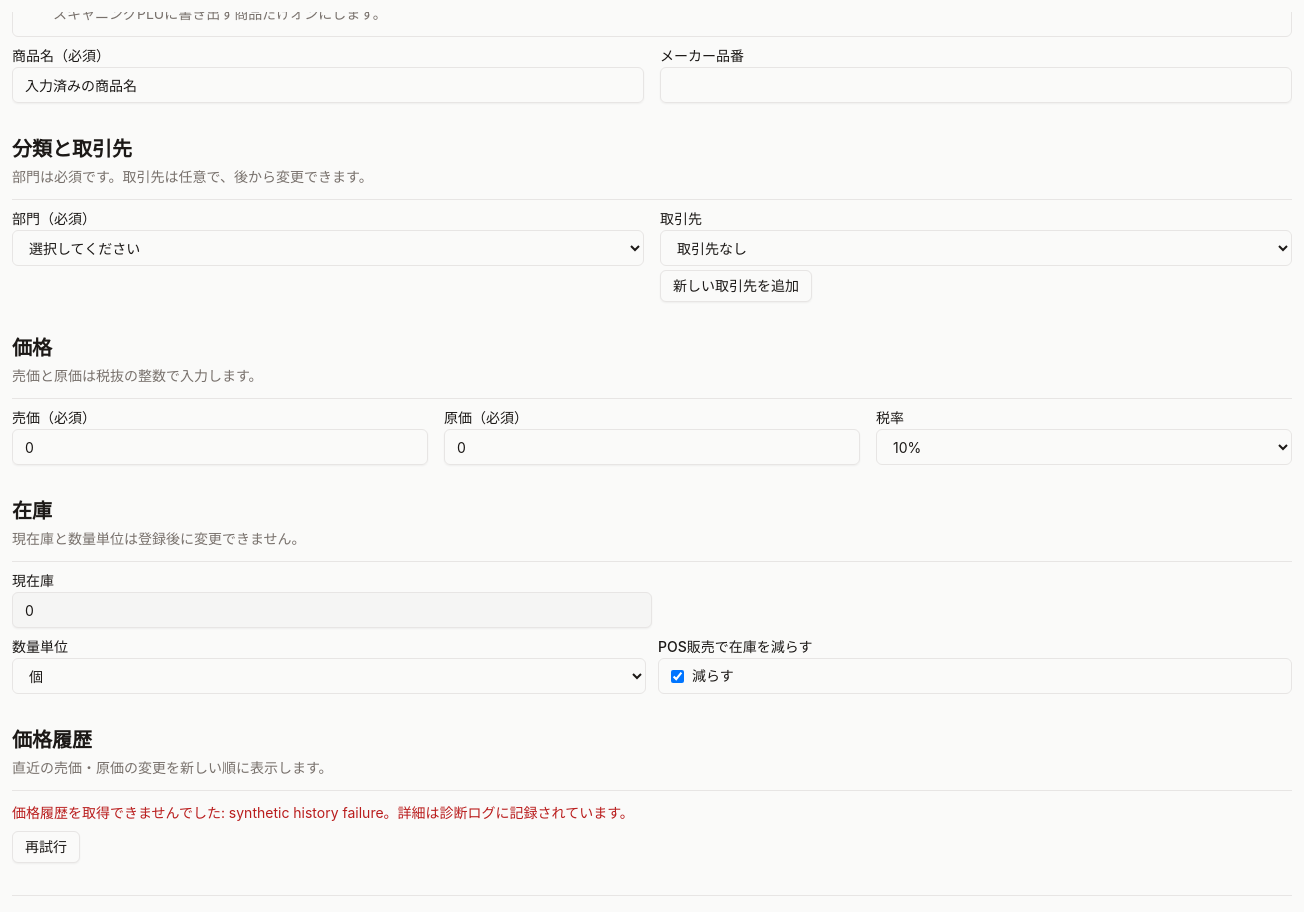
Test case: ProductForm price history and inline supplier (REQ-102 / REQ-106) › shows an inline error and retries
(page scrolled)
Expected: the message shows "価格履歴を取得できませんでした", [12,804,229,821]
What coordinates should you click on to do the following:
click the button "再試行"
I would click on:
 (46, 847)
Its box is [12,831,80,863].
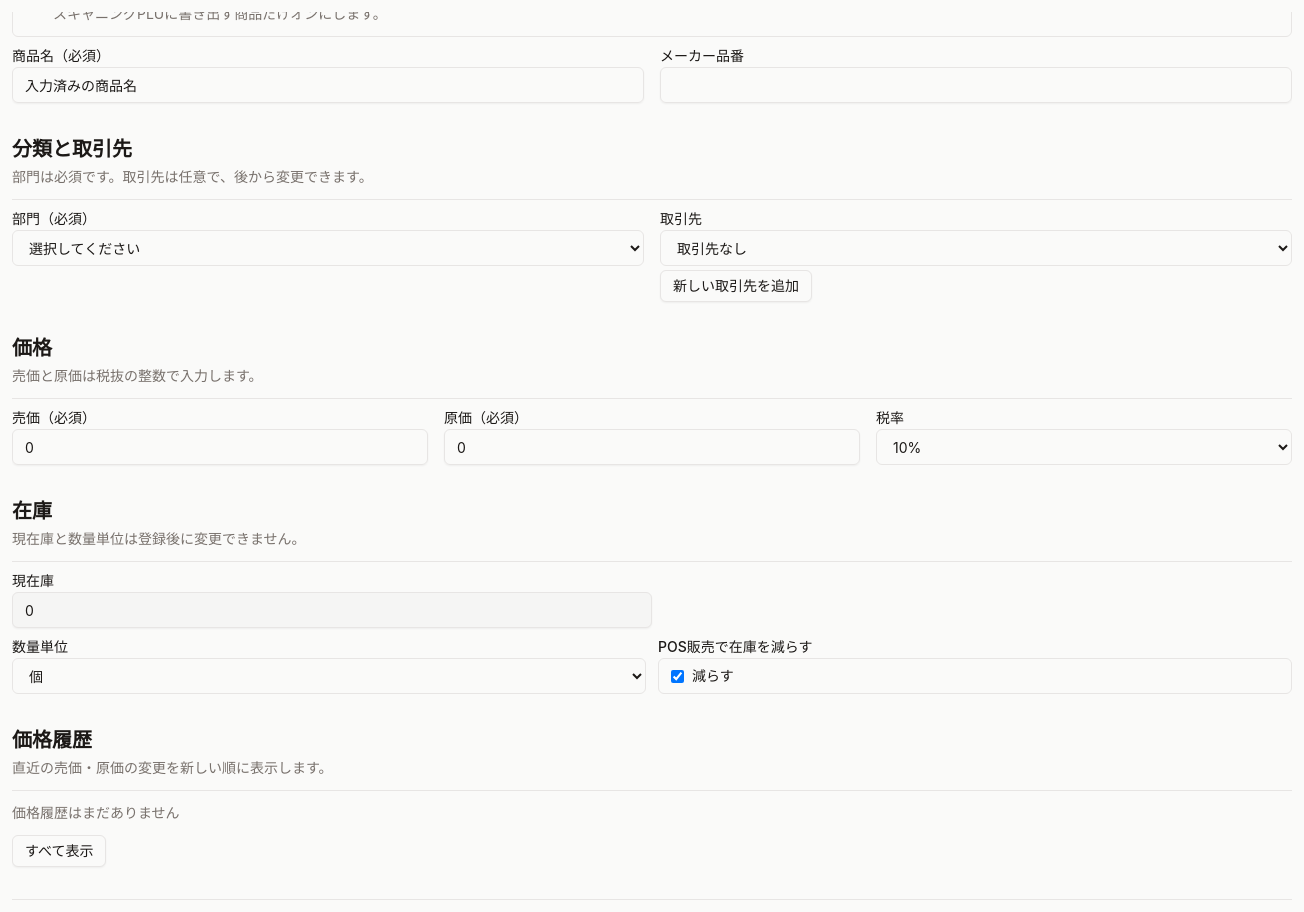
Expected: the text "価格履歴はまだありません" is shown, [12,804,180,821]
